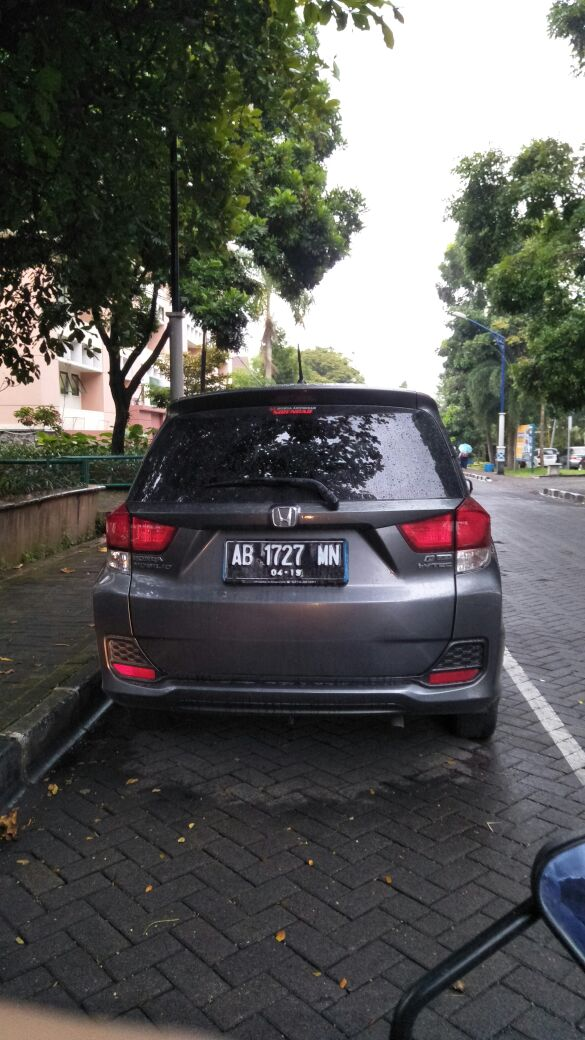plate: (225, 538, 346, 583)
